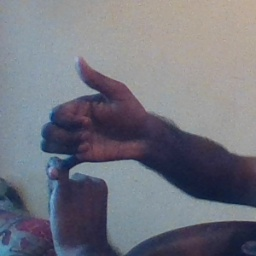S: (32, 51, 153, 237)
